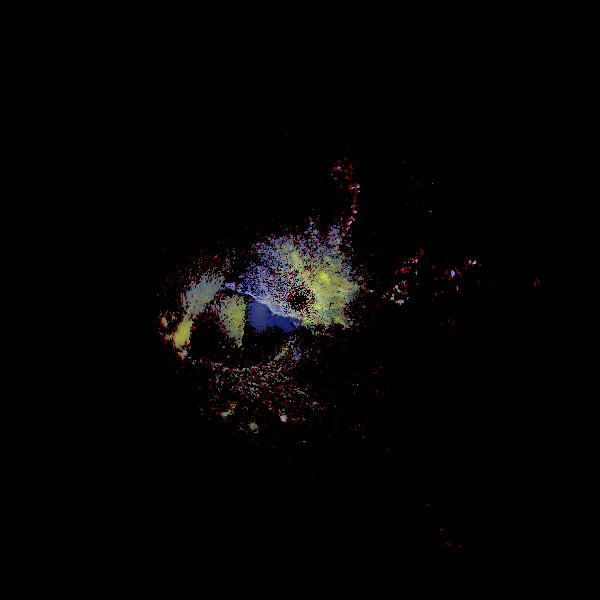roost: (208, 108, 385, 285)
